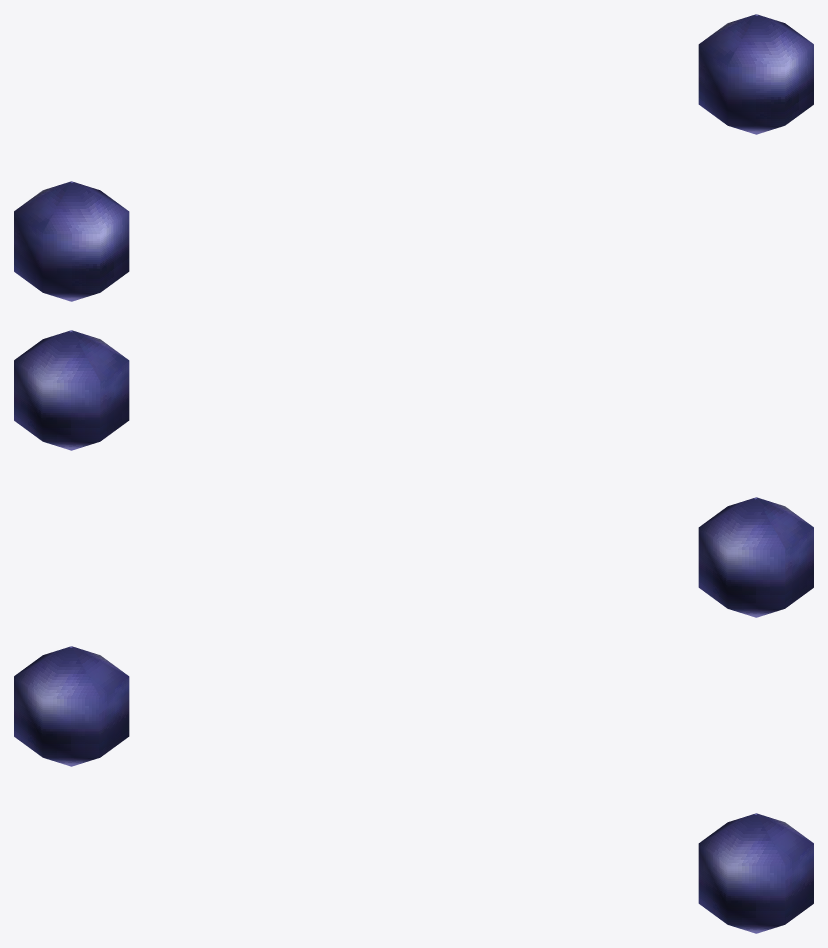
Rendered from clothes_04_sa.glb.
3 views of the same model, one above another, from view 1: azimuth 30°, elevation 25°; view 2: azimuth 150°, elevation 25°; view 3: azimuth 330°, elevation 25° (orthographic).
Visible parts, largest first — view 1: clothes_04_sa; view 2: clothes_04_sa; view 3: clothes_04_sa.
Boxes of the visible parts, <box> form: clothes_04_sa: <box>14,14,813,301</box>; clothes_04_sa: <box>14,330,813,617</box>; clothes_04_sa: <box>14,646,813,933</box>.
Bounding box in the file's own units: 0.6563 × 0.0981 × 0.0849.
Materials: 1 (1 with a texture image).
